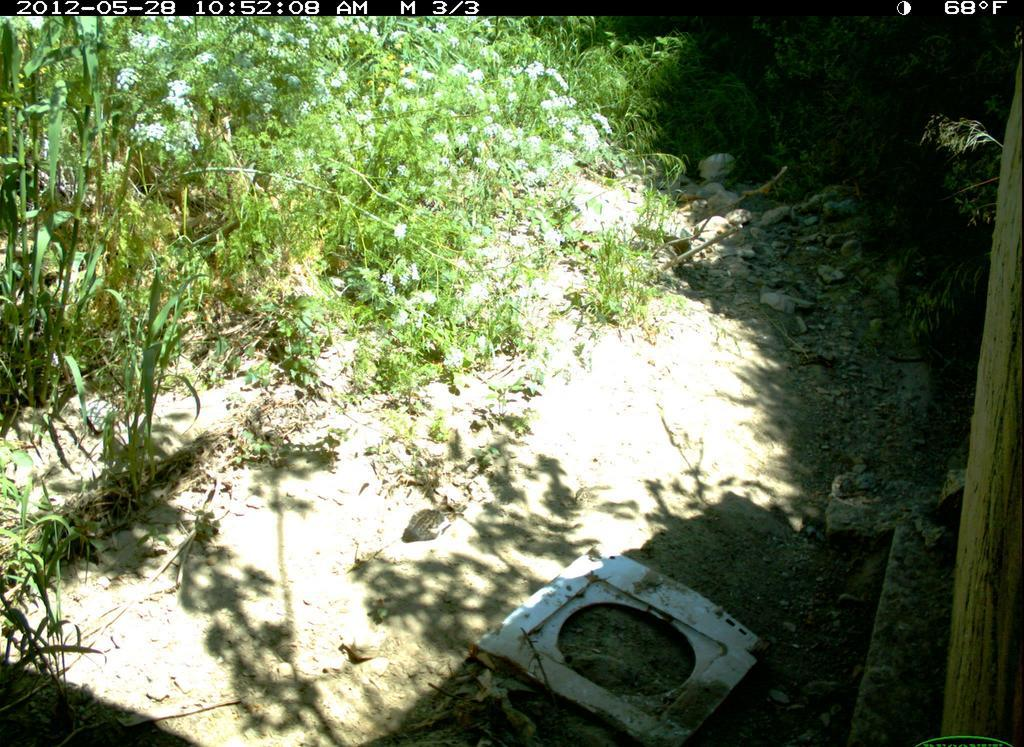cat: (401, 486, 465, 550)
